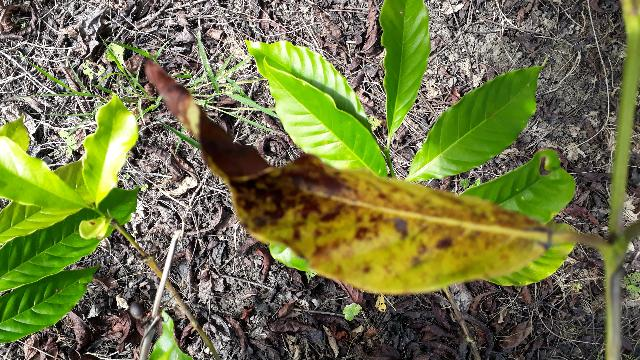red_spider_mite: (75, 67, 492, 299)
